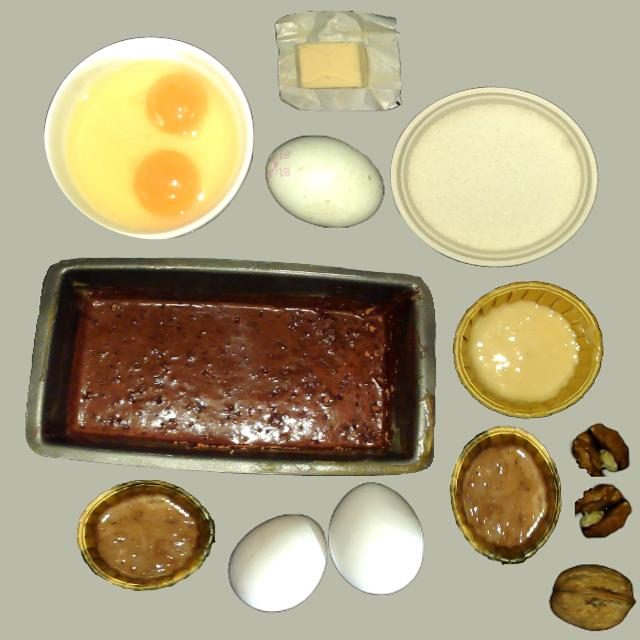Egg: (134, 152, 199, 214), (146, 72, 209, 134), (146, 73, 209, 135)
Sugar: (392, 87, 594, 266)
Walnut: (549, 564, 634, 630)
